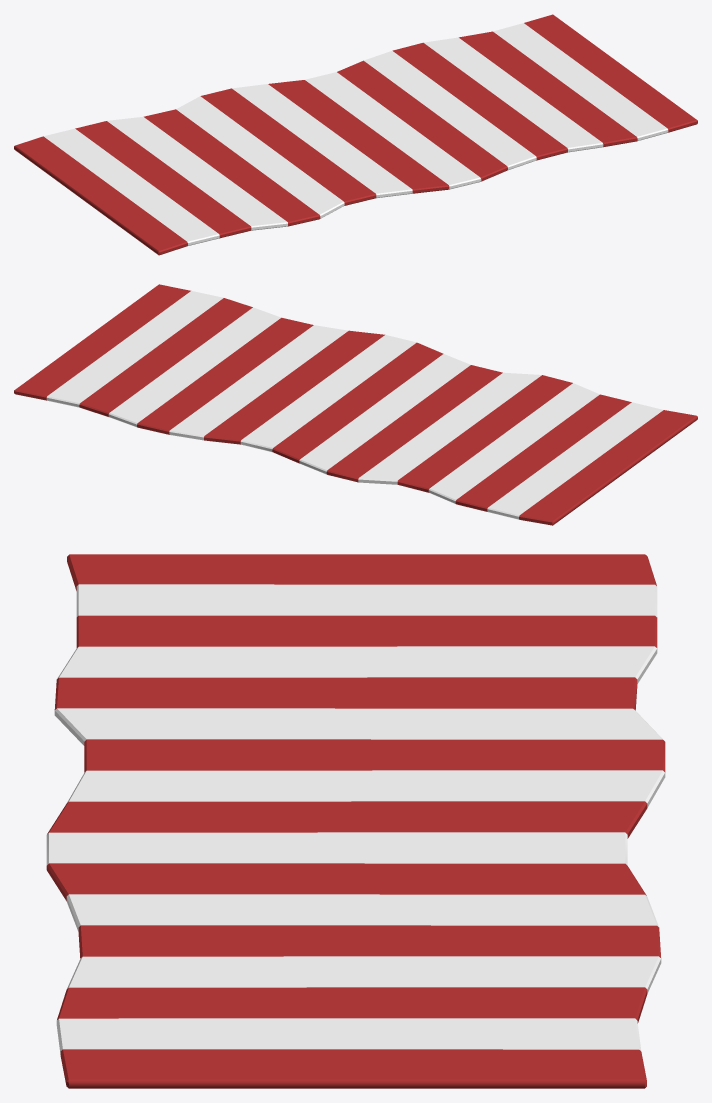
The model's file is peskir2.fbx.
3 views of the same model, one above another, from view 1: azimuth 30°, elevation 25°; view 2: azimuth 150°, elevation 25°; view 3: azimuth 270°, elevation 25° (orthographic). The views are drawn at different scales.
Parts seen in each view (by area): view 1: Peskir.001; view 2: Peskir.001; view 3: Peskir.001.
Boxes of the visible parts, x1,y1,x2,y2 form: Peskir.001: (14, 14, 697, 255); Peskir.001: (14, 284, 697, 525); Peskir.001: (46, 554, 665, 1088).
Bounding box in the file's own units: 197 × 1.58 × 97.95.
